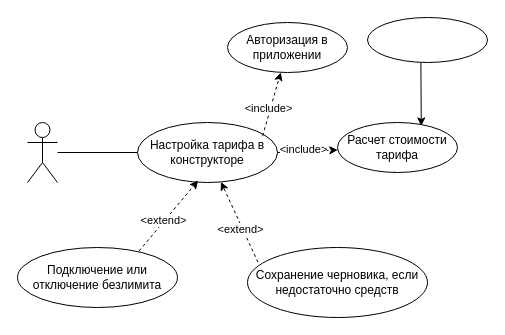
Image size: 505x335. Some labels were removed from this diagram. Here are the shapes that lost their labels. From the top down, the centre of each, then its label:
point 427,39: Система биллинга оператора
point 42,152: Алексей
